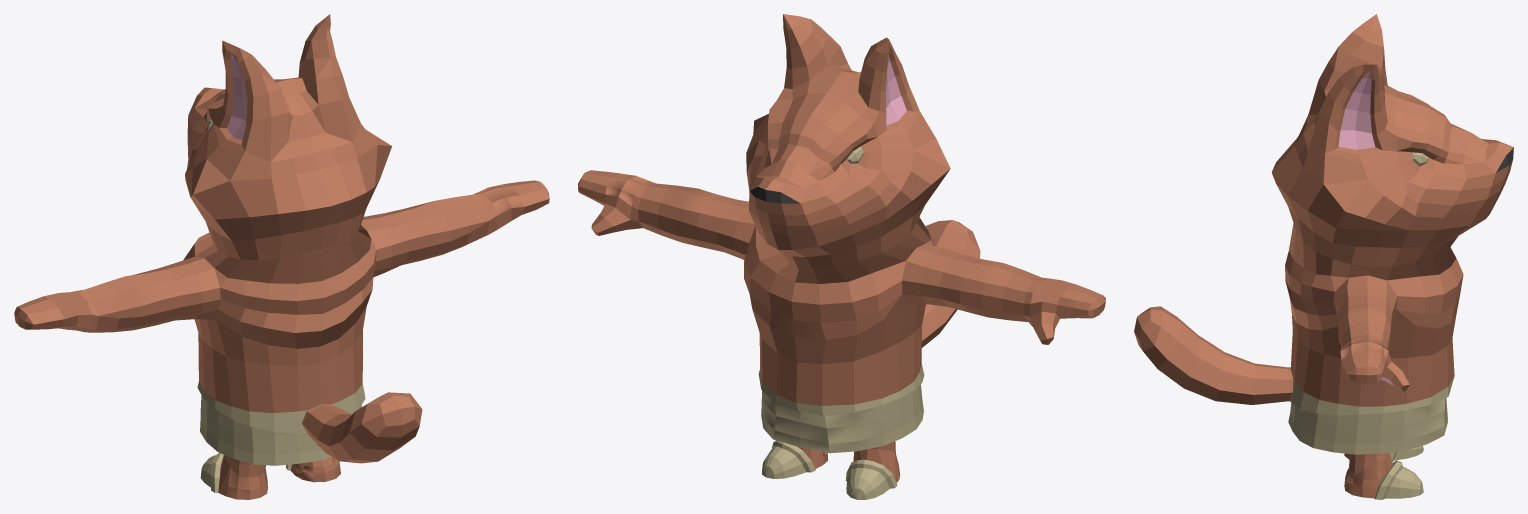
File: MUTANDE_PROVA_.fbx
3 views of the same model, side by side, from view 1: azimuth 30°, elevation 25°; view 2: azimuth 150°, elevation 25°; view 3: azimuth 270°, elevation 25° (orthographic). The views are drawn at different scales.
Parts seen in each view (by area): view 1: polySurface1.003; view 2: polySurface1.003; view 3: polySurface1.003.
Part boxes in pixels (box(x1,y1,x2,y2)): polySurface1.003: box(14, 14, 549, 499); polySurface1.003: box(578, 14, 1105, 499); polySurface1.003: box(1134, 14, 1513, 499).
Bounding box in the file's own units: 175 × 143 × 114.
